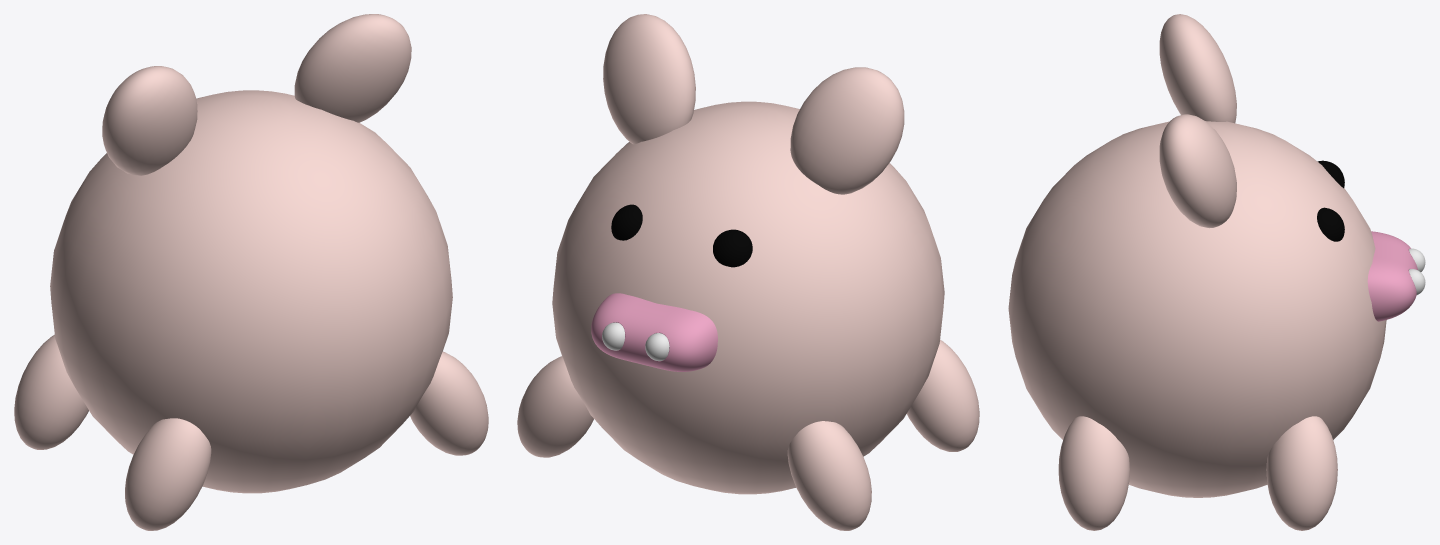
File: pig.fbx
3 views of the same model, side by side, from view 1: azimuth 30°, elevation 25°; view 2: azimuth 150°, elevation 25°; view 3: azimuth 270°, elevation 25° (orthographic). The views are drawn at different scales.
Parts seen in each view (by area): view 1: 球体, 球体.001, 球体.004; view 2: 球体, 球体.004, 球体.001, 立方体, 球体.003, 球体.002; view 3: 球体, 球体.004, 球体.001, 立方体, 球体.003, 球体.002.
Boxes of the visible parts, <box> form: 球体: <box>50,90,452,493</box>; 球体.001: <box>14,334,488,530</box>; 球体.004: <box>102,14,411,175</box>; 球体: <box>552,101,944,494</box>; 球体.004: <box>603,14,904,194</box>; 球体.001: <box>517,340,979,530</box>; 立方体: <box>591,293,717,371</box>; 球体.003: <box>611,204,752,267</box>; 球体.002: <box>602,322,669,361</box>; 球体: <box>1008,121,1386,497</box>; 球体.004: <box>1159,14,1236,228</box>; 球体.001: <box>1058,416,1337,530</box>; 立方体: <box>1367,231,1417,321</box>; 球体.003: <box>1317,160,1344,241</box>; 球体.002: <box>1409,248,1425,294</box>.
Bounding box in the file's own units: 203 × 240 × 220.
